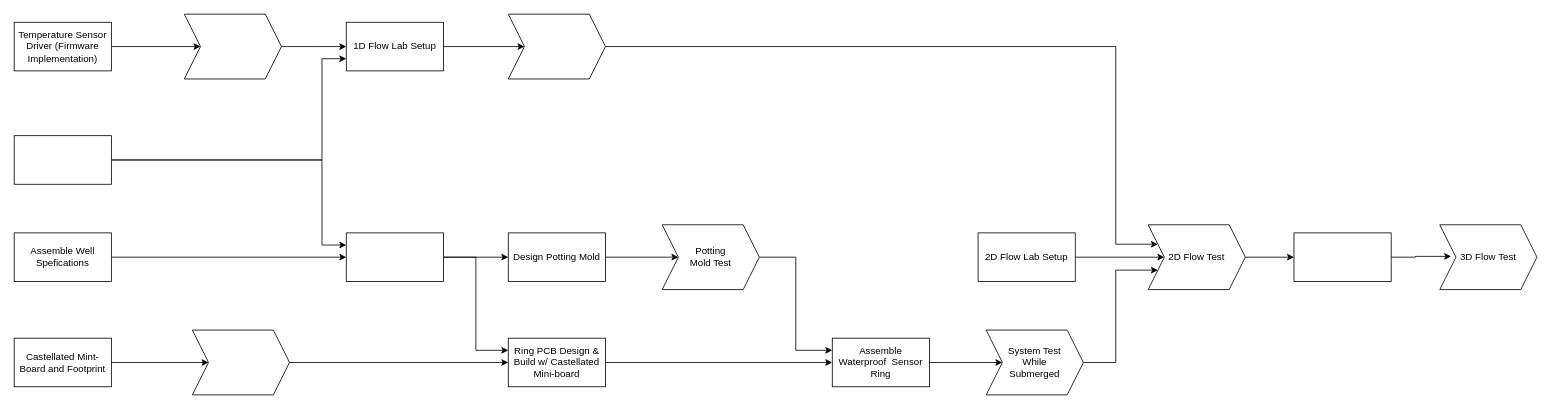
Image size: 1551x409. Some labels were removed from this diagram. The shapes that lost their labels are listed below. From the top down, each one's centre as x and y in pixels, then its label:
At point (232, 46): "Driver Test".
At point (556, 46): "1D Flow Measurement Test".
At point (62, 159): "Sensor Thermal Interface Design".
At point (394, 256): "Ring PCB Form Factor".
At point (1342, 256): "3D Sensor Assembly Design".
At point (241, 362): "Castellated Placement Test".
